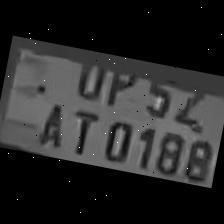0: (96, 111, 136, 166)
1: (126, 119, 160, 172)
2: (168, 78, 214, 130)
5: (134, 68, 179, 119)
8: (178, 131, 218, 185), (149, 125, 188, 180)
A: (31, 96, 70, 152)
P: (100, 58, 142, 110)
T: (61, 104, 103, 158)
U: (68, 48, 110, 102)
